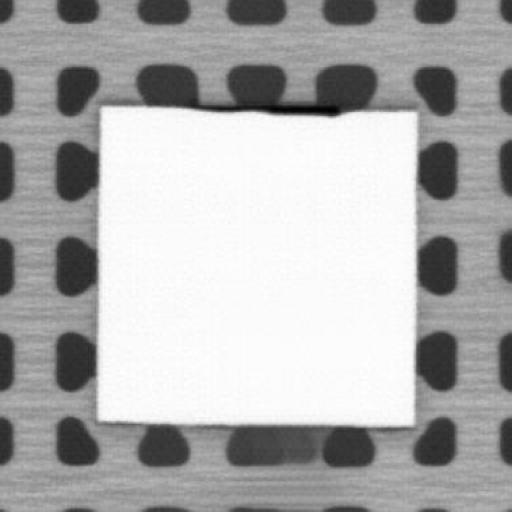DIE_BROKEN: (187, 99, 344, 116)
